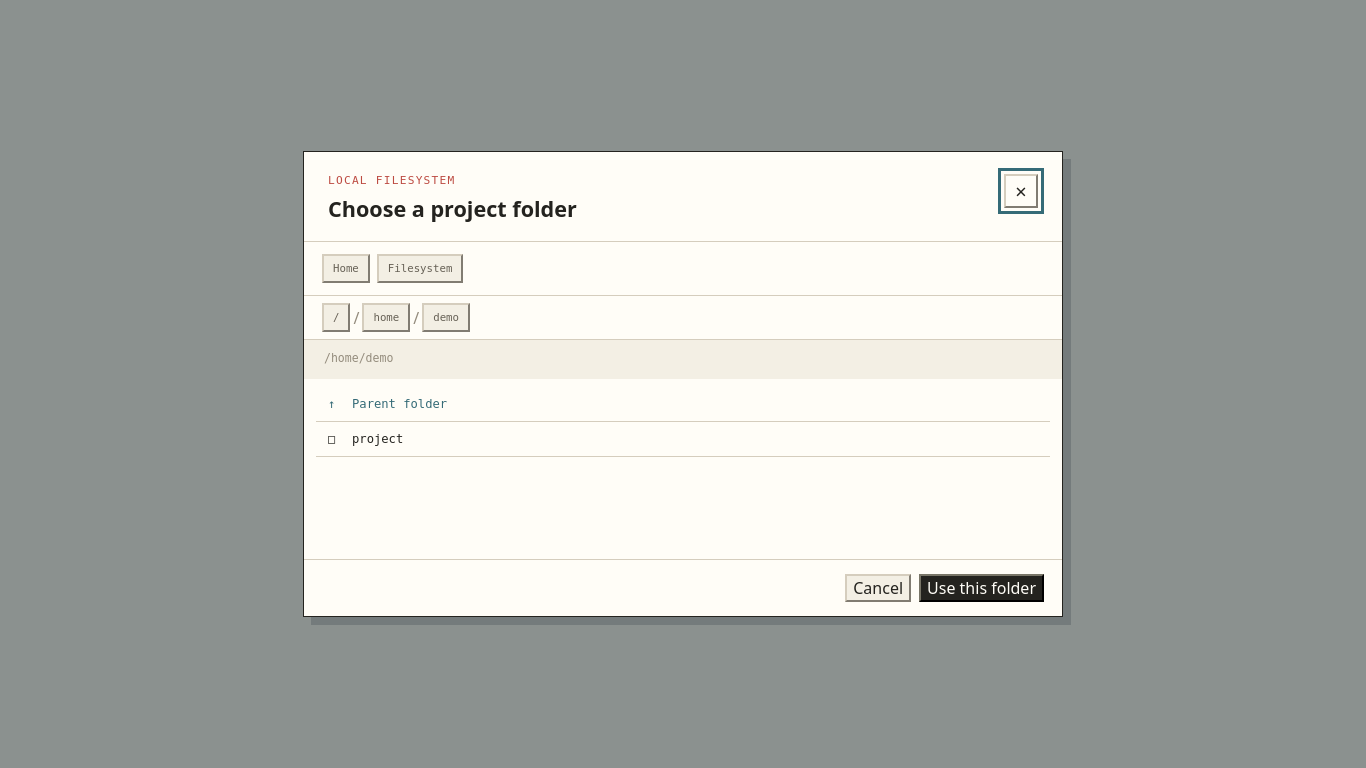
Test: DirectoryBrowserDialog › navigates into a child and shows an empty-folder state
Click the button "□ project" at (378, 439), box [316,422,1050,457]
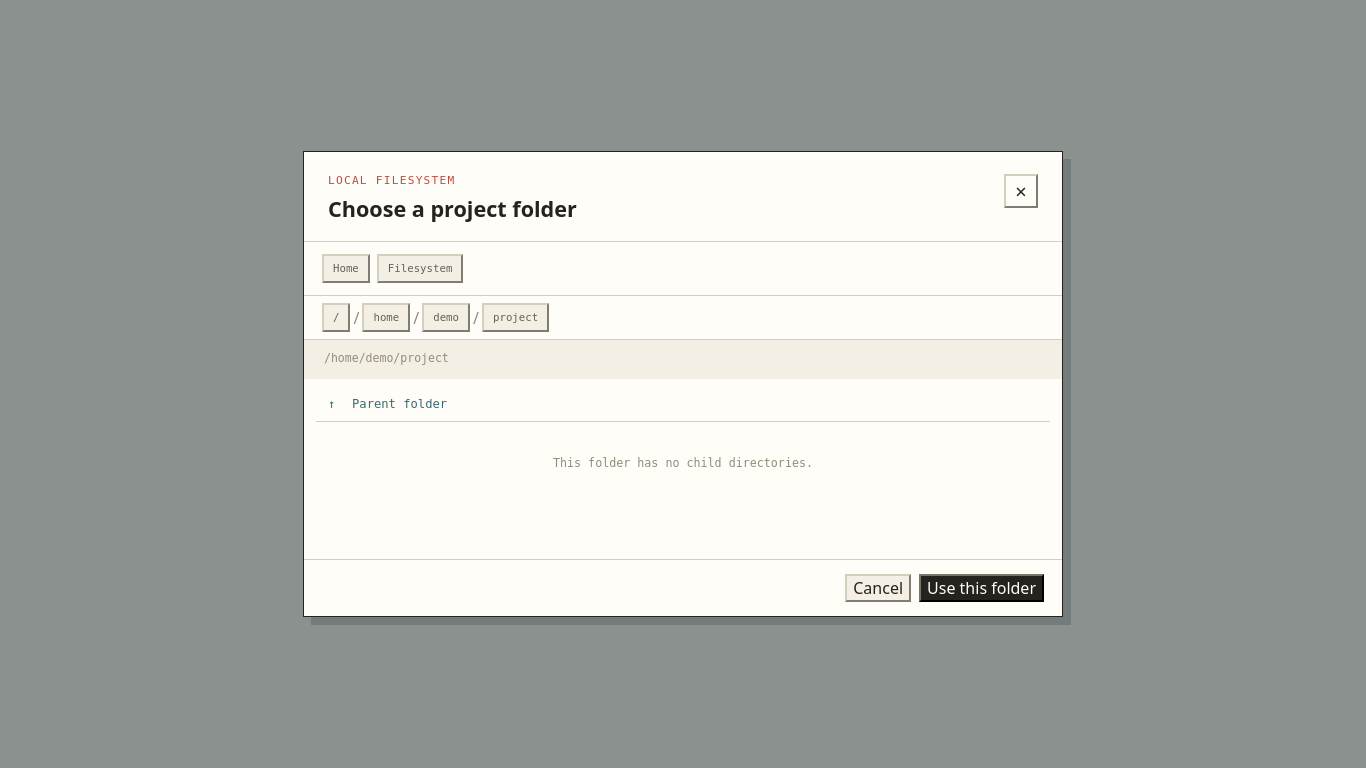
Now the text "This folder has no child directories." is shown, box [553,456,813,470]
